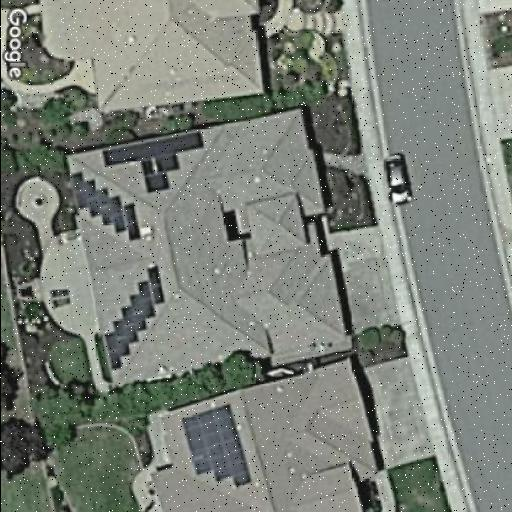solar-panel: (102, 261, 164, 374), (100, 130, 208, 194), (179, 402, 254, 490), (70, 168, 144, 244)
